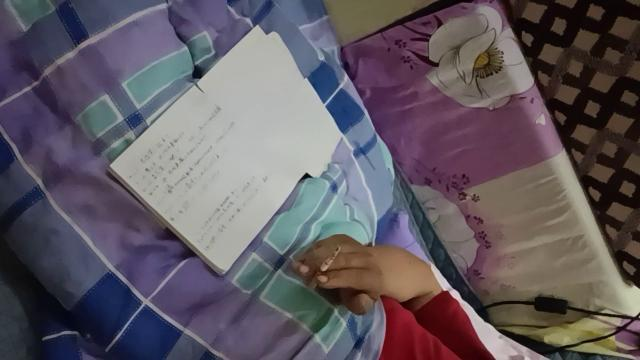Smoking: (308, 244, 342, 290)
